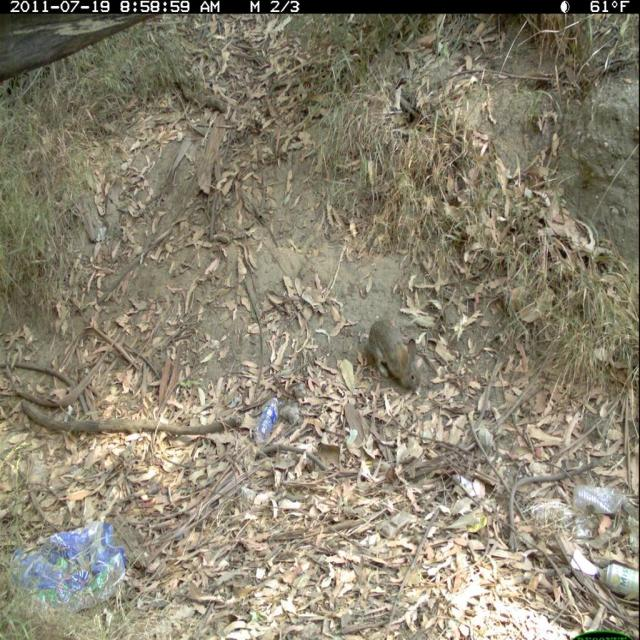rabbit: (357, 312, 426, 406)
